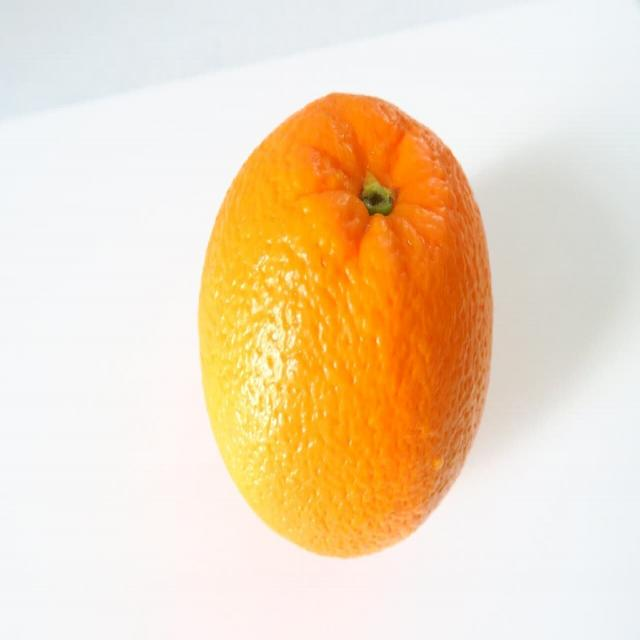Orange: (196, 94, 497, 560)
